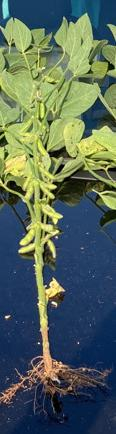soja: (19, 223, 37, 246), (18, 184, 38, 204), (16, 242, 41, 257), (34, 140, 50, 163), (38, 165, 58, 182), (42, 206, 66, 220), (47, 202, 61, 226), (36, 179, 62, 191), (18, 118, 35, 134), (47, 238, 59, 258), (38, 104, 50, 121), (37, 222, 54, 232), (43, 192, 61, 201), (41, 75, 58, 84), (45, 229, 64, 237)
